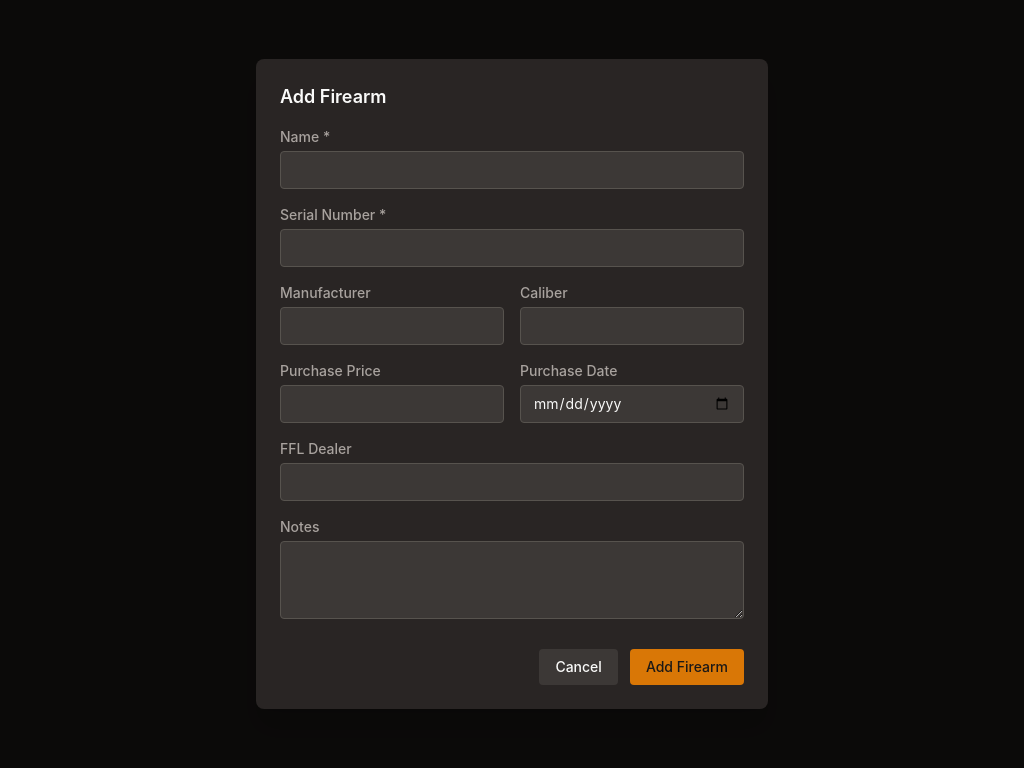
Test: FirearmForm › shows inline error on Name when submitted empty
The width and height of the screenshot is (1024, 768).
Click the button "Add Firearm".
click(687, 667)  # box [630,649,744,685]
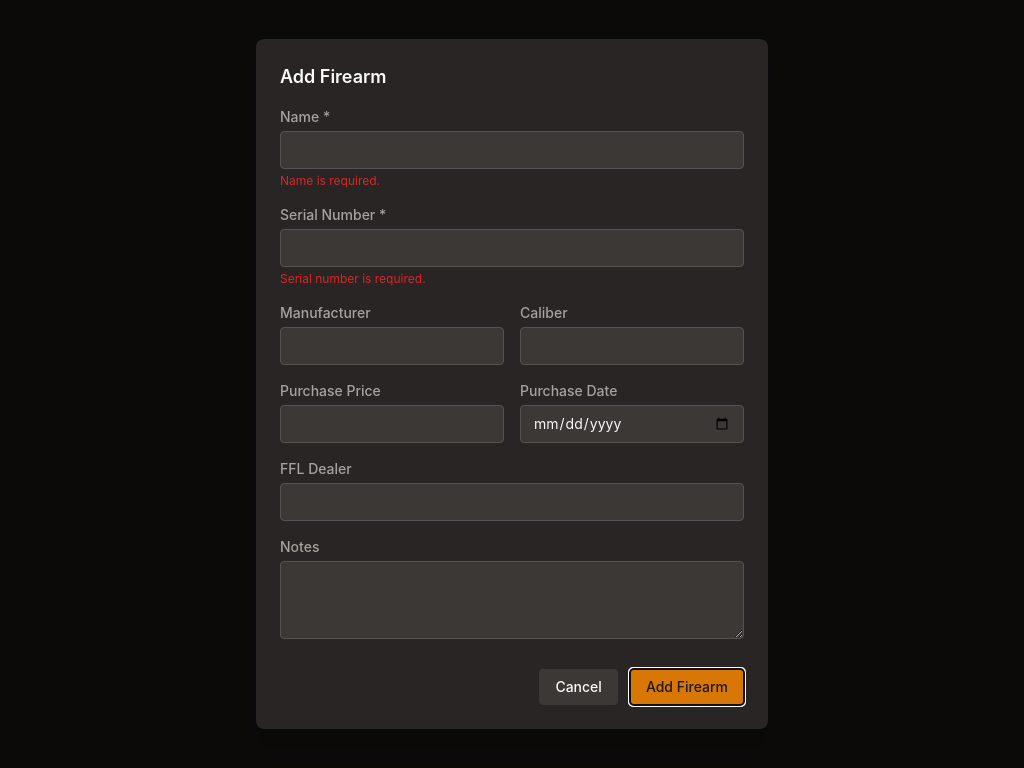
Expected: the text "Name is required." is shown, [280,173,380,188]
